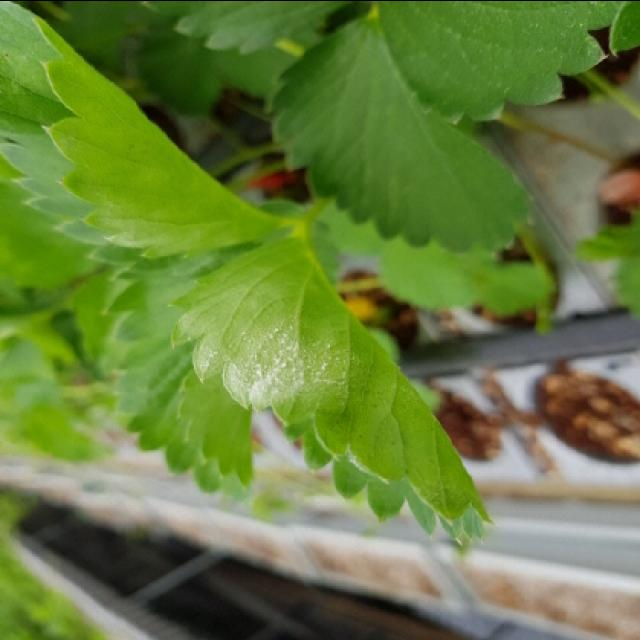Powdery Mildew Leaf: (167, 221, 492, 543)
